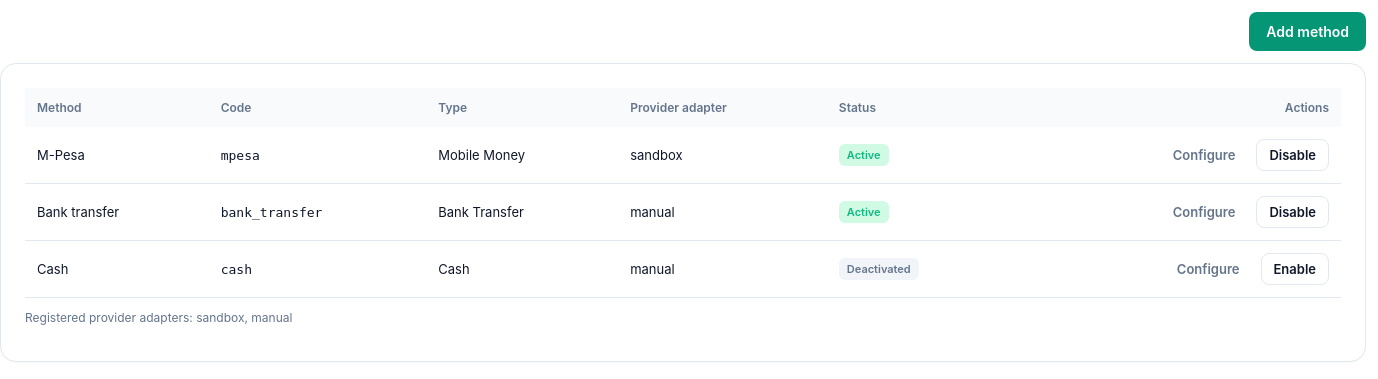
Test: PaymentMethodsTab › enables a disabled method
This screenshot has width=1378, height=379.
Check: the text "M-Pesa" is shown, box [25,127,209,184]
Click the button "Enable". click: (1295, 269)
box: [1260,253,1329,285]
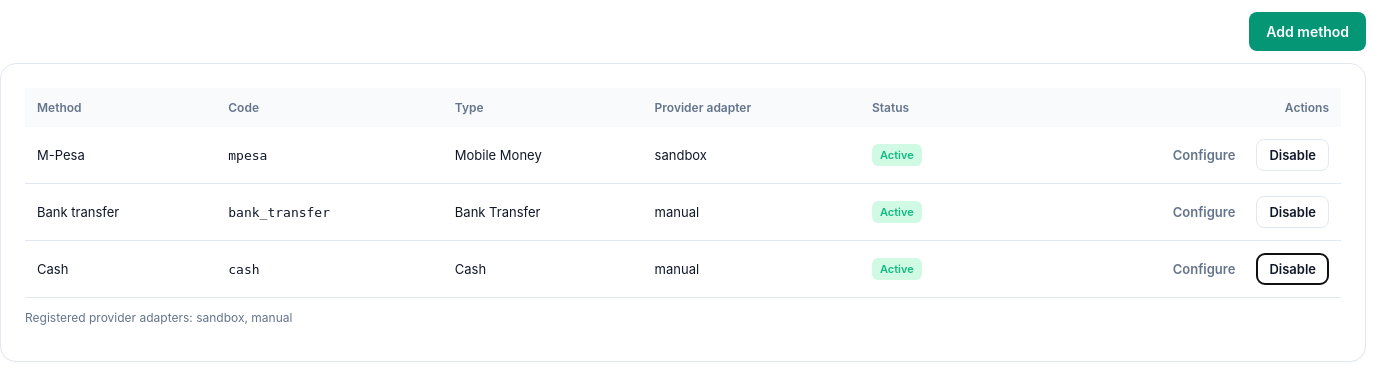
Check: the 3rd text "Active" is shown, box [872,258,922,280]
